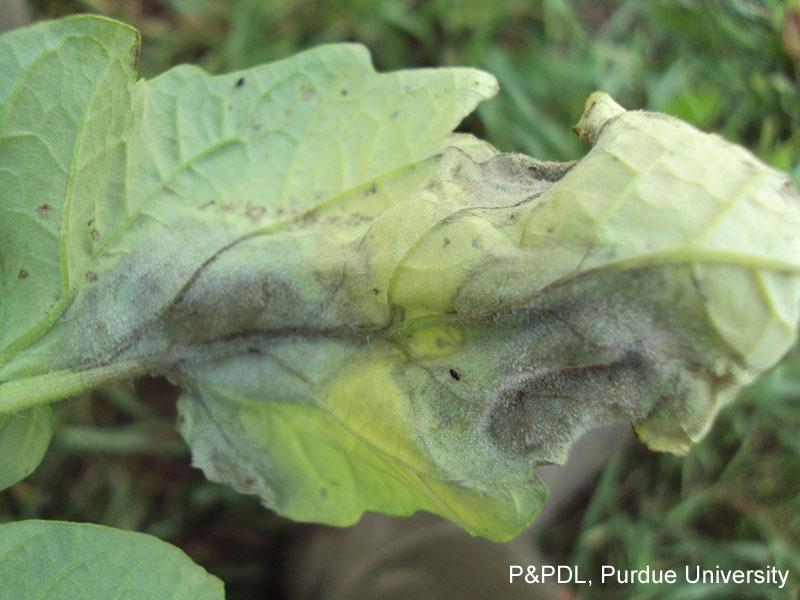Potato leaf: (3, 9, 800, 544)
